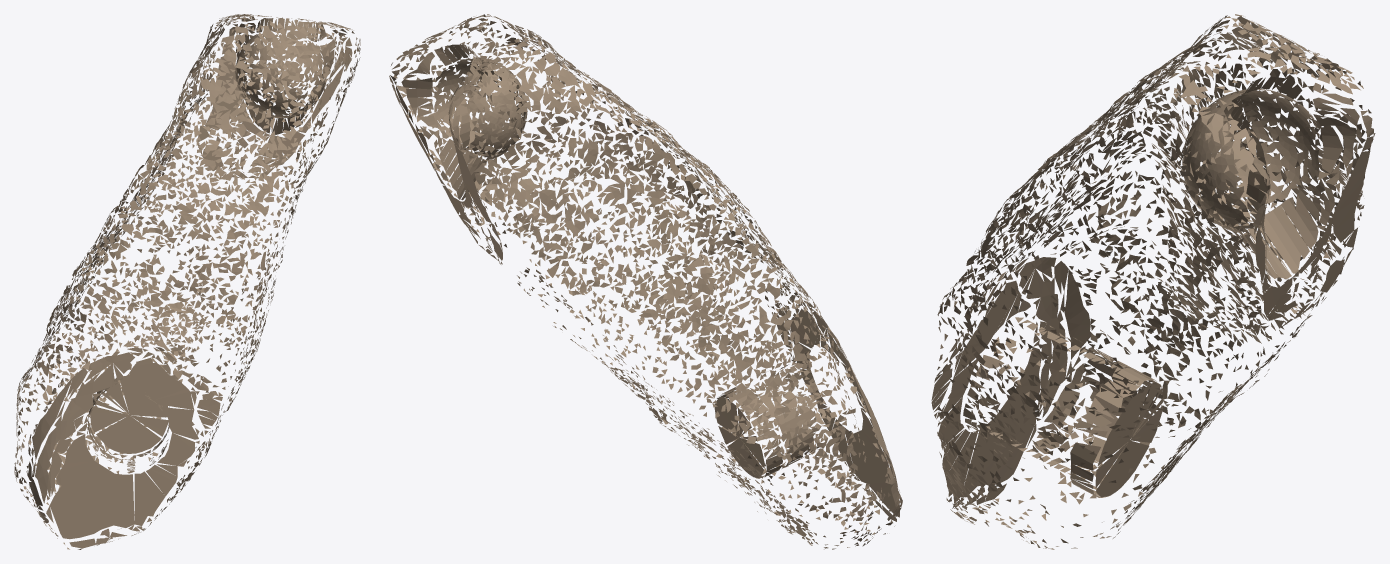
Rendered from rocky_brazo_derecho.obj.
The picture shows the model from 3 angles, left to right: view 1: azimuth 30°, elevation 25°; view 2: azimuth 150°, elevation 25°; view 3: azimuth 270°, elevation 25°; orthographic projection. The views are drawn at different scales.
Size of the model in its own units: 0.2523 by 0.2684 by 0.1586.
1 material, 1 textured.
